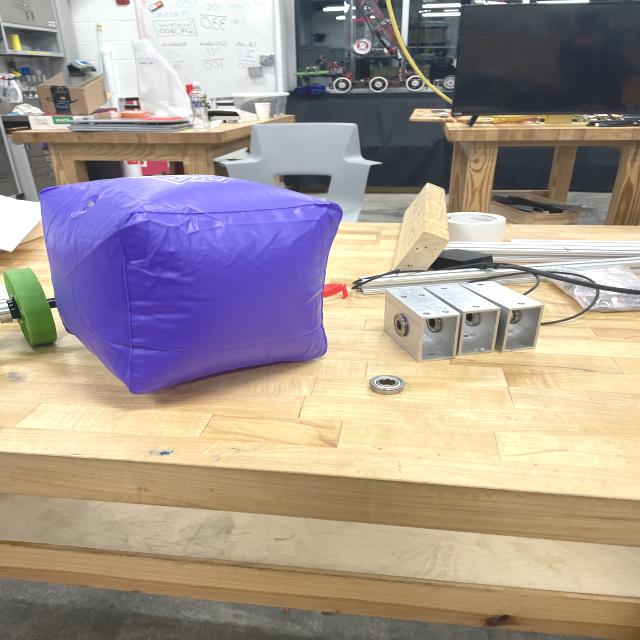frc_cube: (44, 166, 343, 396)
